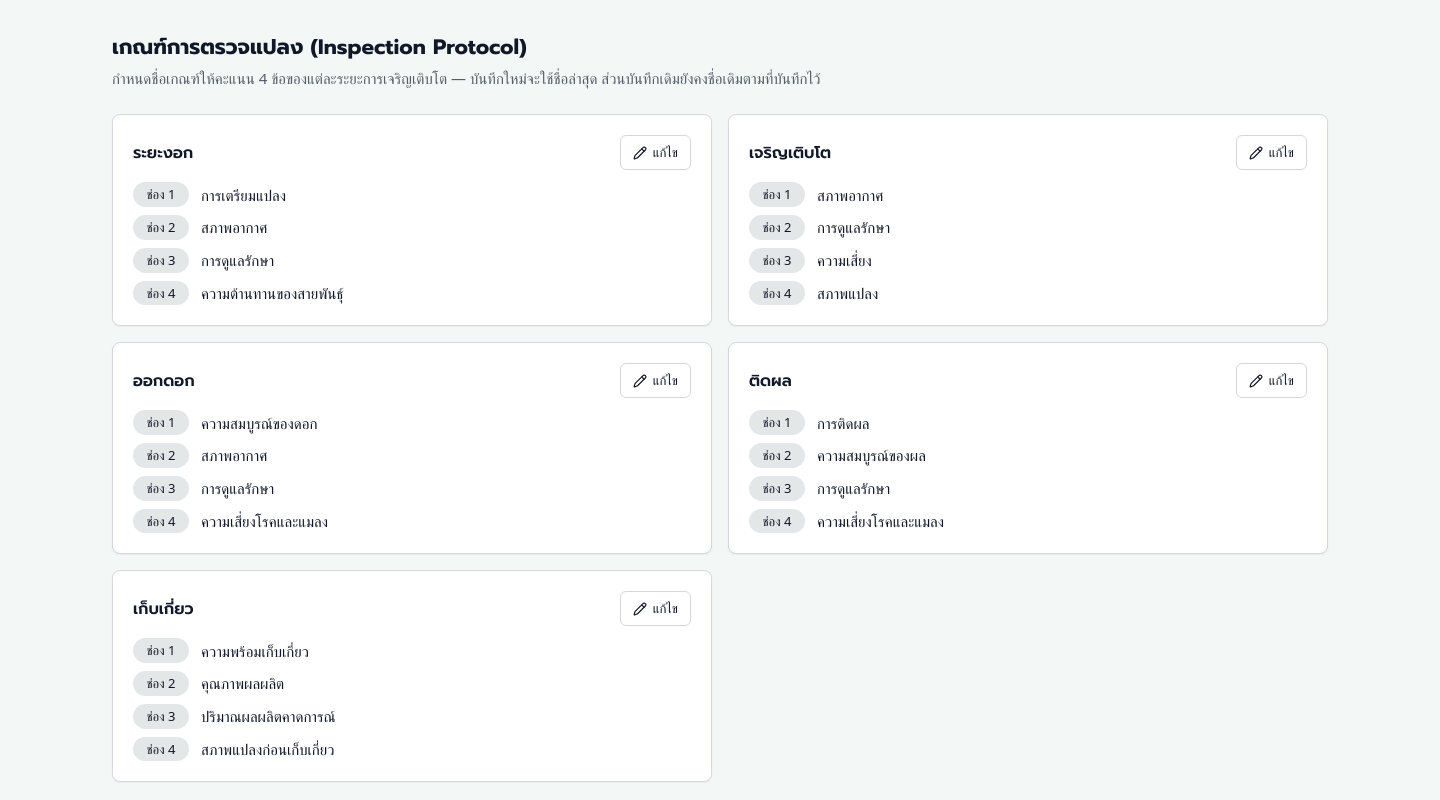
Test: InspectionProtocols admin › on save failure shows a reliable error and refetches the admin config
Click the button "แก้ไข" in the row of "ระยะงอก" at (655, 153), box [620,135,691,170]
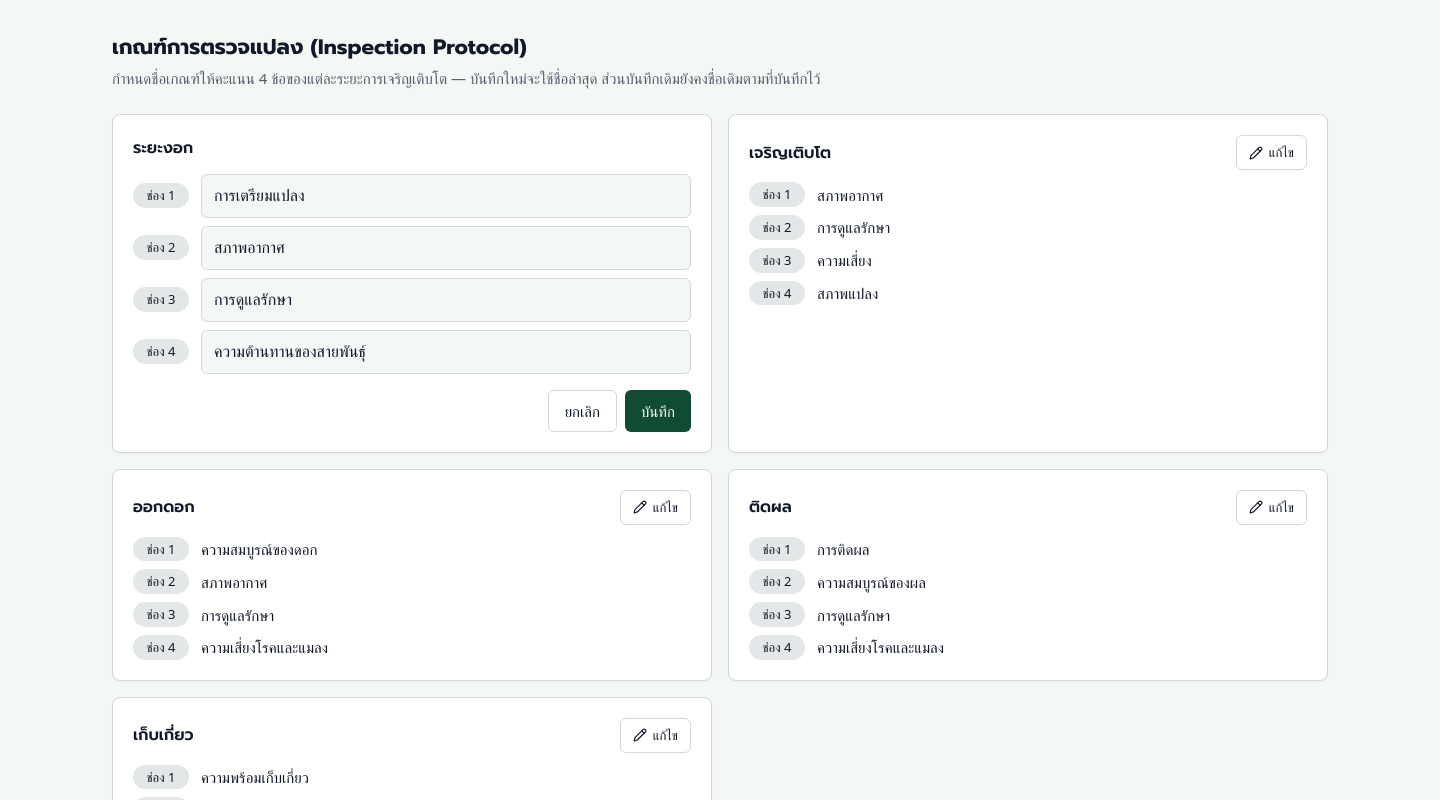
Replace the text in the field named "ชื่อเกณฑ์ ช่อง 1" with "ชื่อใหม่" at (446, 196), box [201,174,691,218]
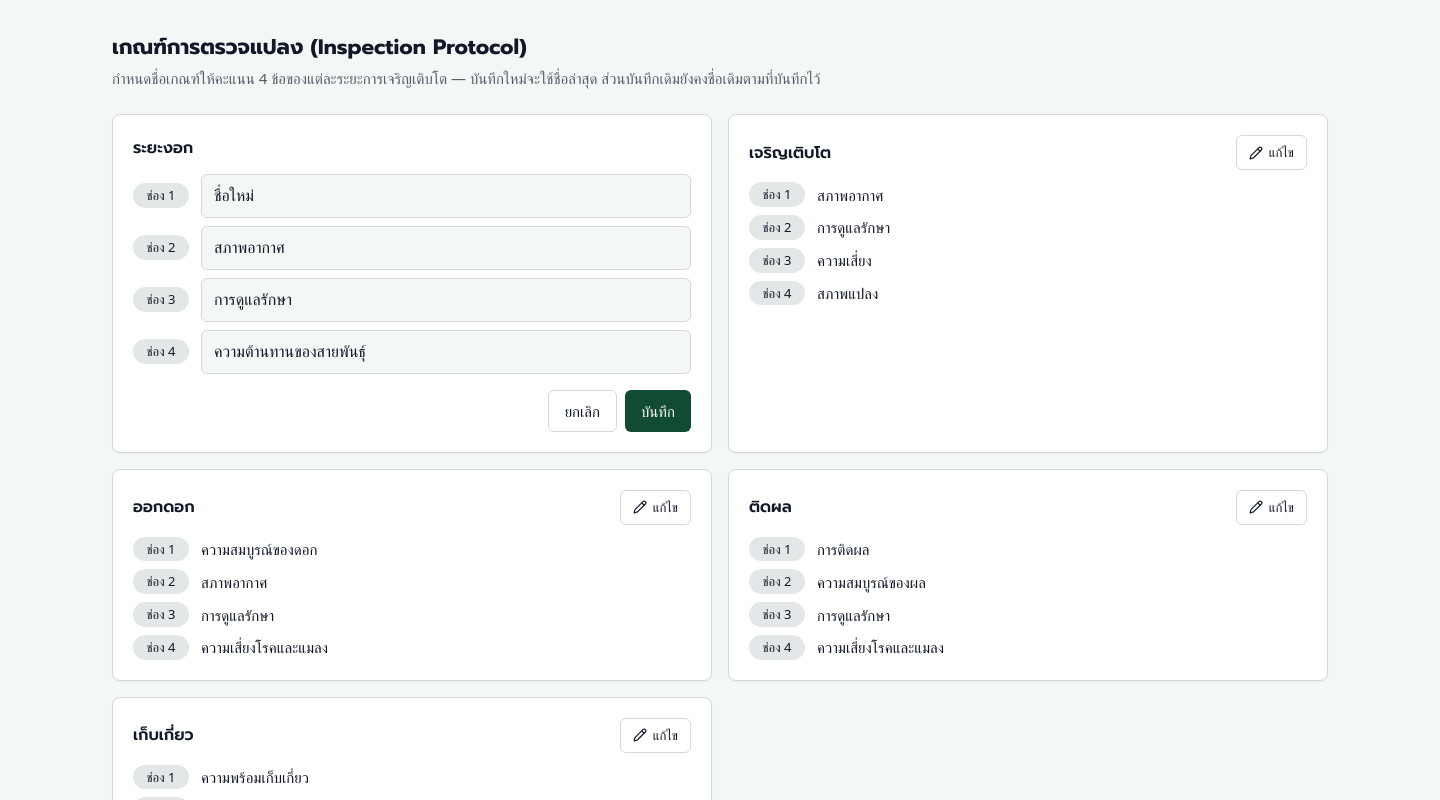
Click the button "บันทึก" at (658, 411), box [625,390,691,432]
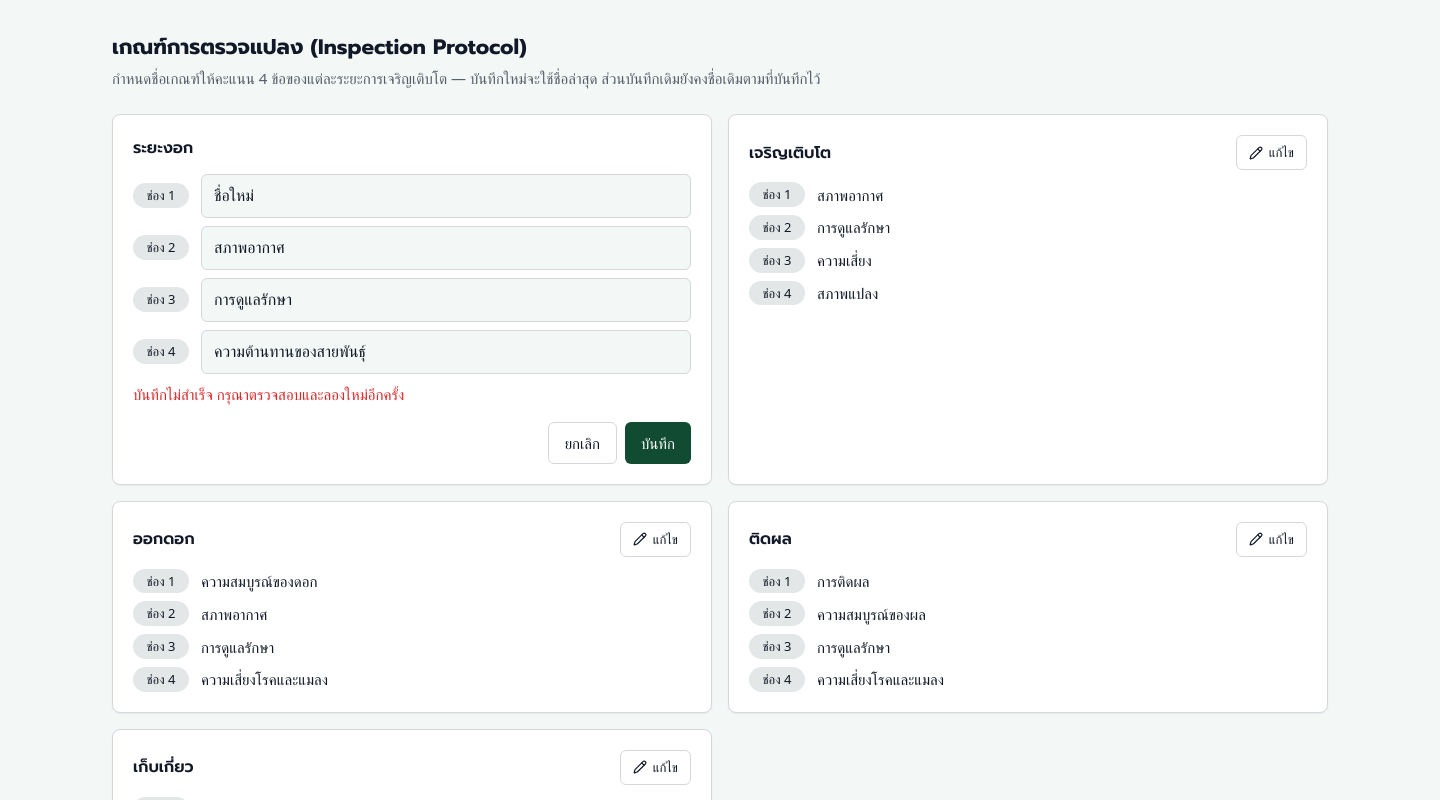
Now the text "บันทึกไม่สำเร็จ กรุณาตรวจสอบและลองใหม่อีกครั้ง" is shown, box [133,384,404,404]
